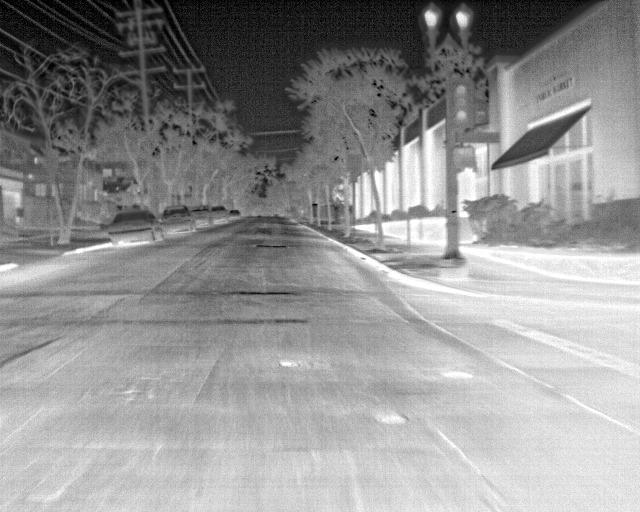car: (107, 210, 163, 244), (159, 205, 196, 234), (190, 205, 214, 227), (210, 206, 229, 223), (229, 210, 241, 221)
light: (454, 84, 468, 125), (452, 147, 474, 167)
sign: (454, 131, 501, 143), (347, 155, 361, 171), (350, 172, 357, 182)
